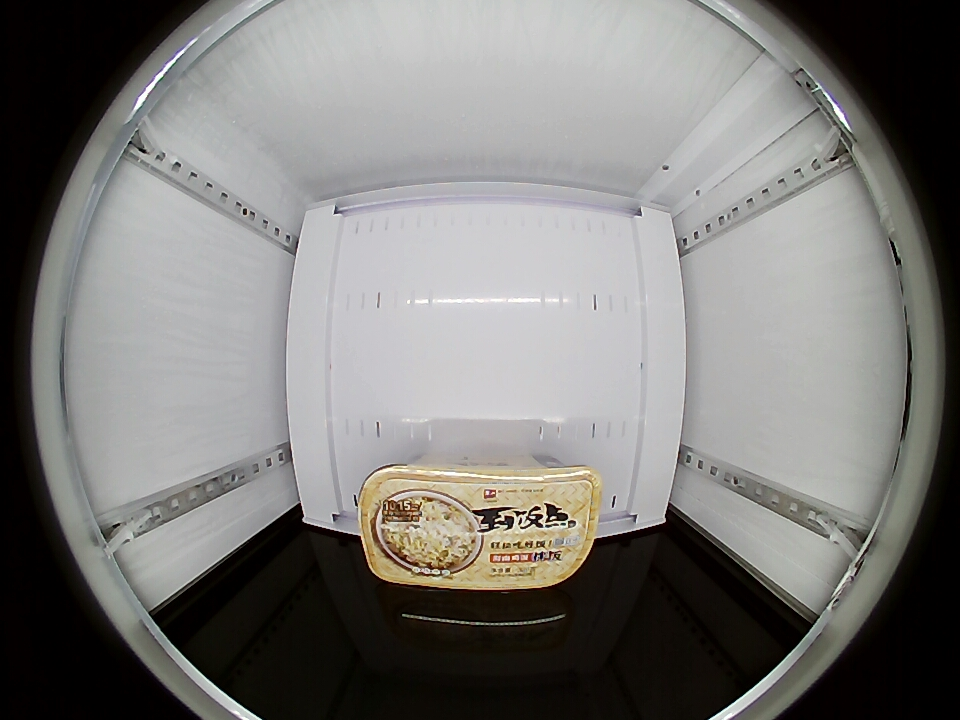daofandian1: (358, 460, 603, 592)
